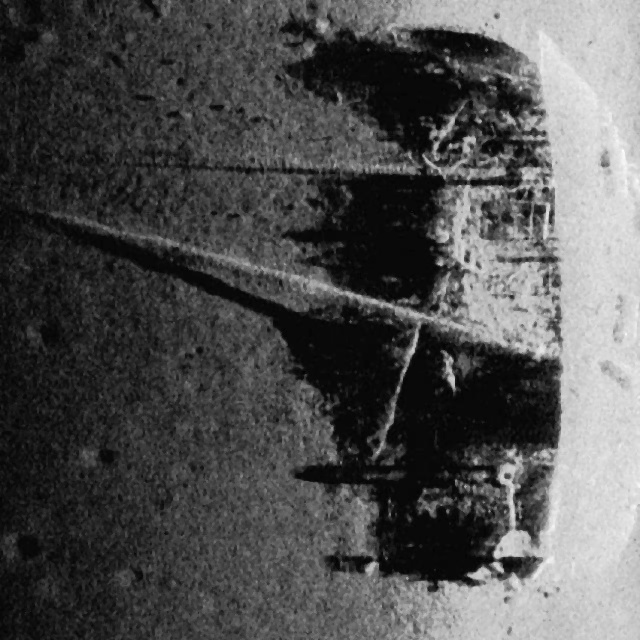Ship: (319, 16, 571, 602)
